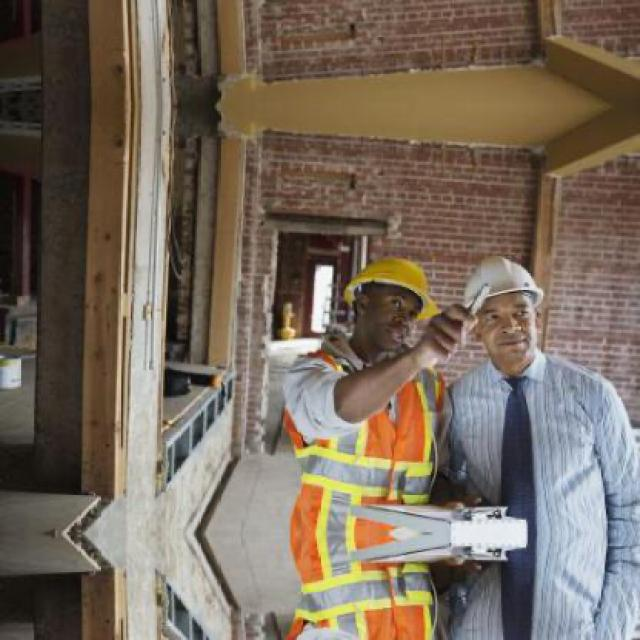helmet: (454, 245, 552, 367), (337, 245, 438, 352)
